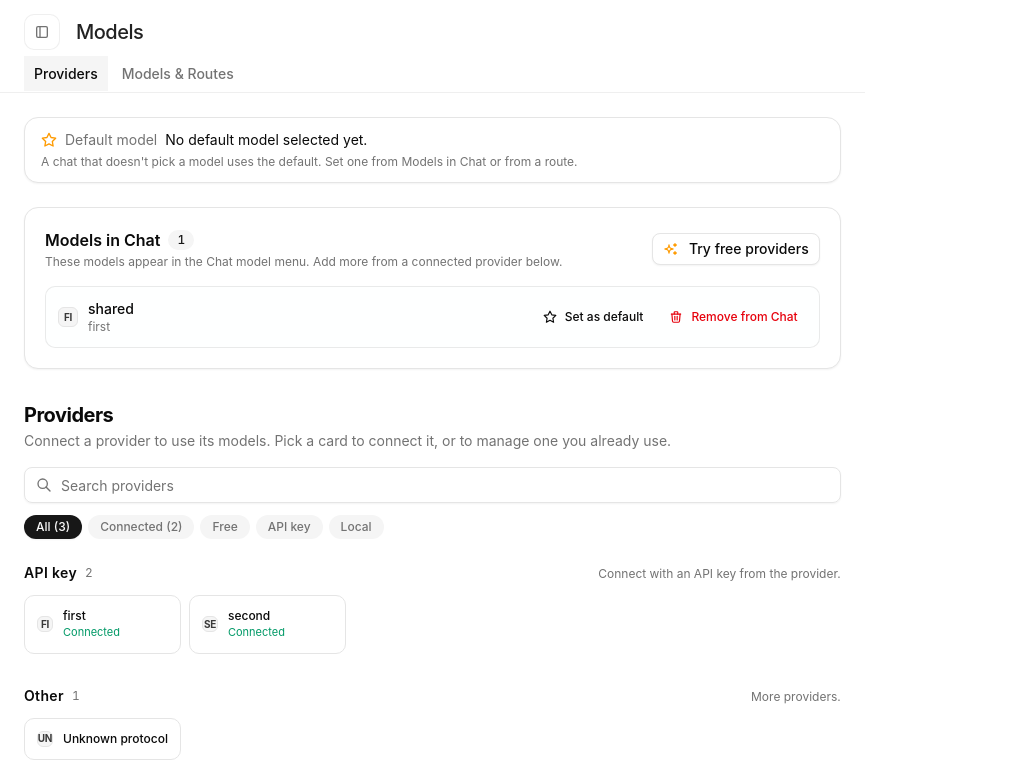
ModelsWorkspace › default model › sets a model in Chat as the default and names it
This screenshot has width=1024, height=768.
Click the button with aria-label "Set as default: shared · first" at (593, 317), box left=534, top=303, right=652, bottom=331
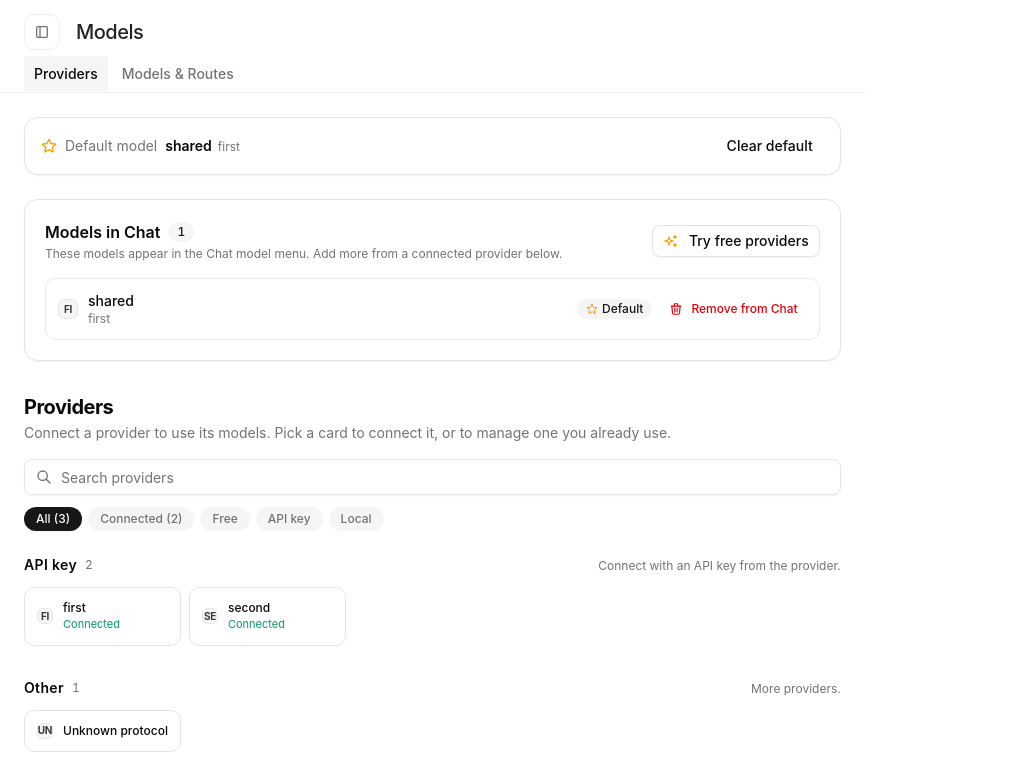
Expected: the text "Default" is shown, left=577, top=299, right=652, bottom=319
Expected: the 1st element titled "first/shared" is shown, left=165, top=137, right=212, bottom=154
Expected: the element "Default model" shows "first", left=218, top=139, right=240, bottom=154
